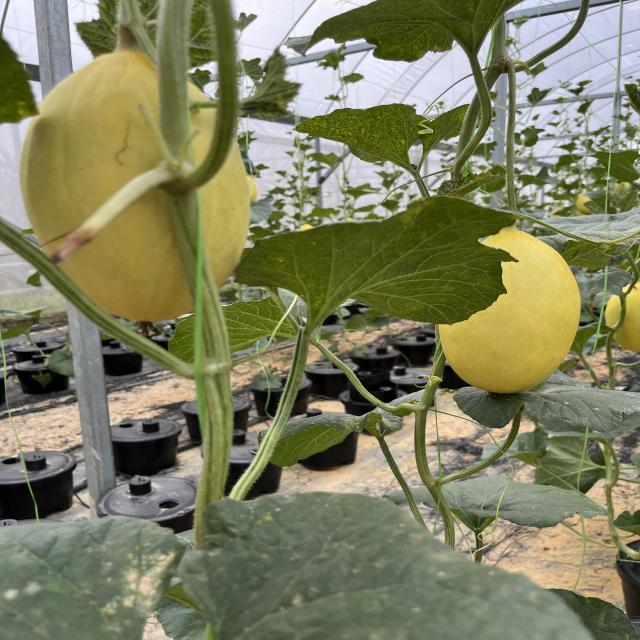CMV: (293, 0, 543, 65)
SLCV: (541, 228, 640, 272)
alternaria leaf blight: (538, 230, 640, 272)
downy mildew: (226, 200, 520, 324), (295, 103, 430, 171), (262, 407, 401, 469)
healthy: (410, 472, 607, 534)
powdery mildew: (237, 198, 524, 326), (450, 378, 640, 432)
